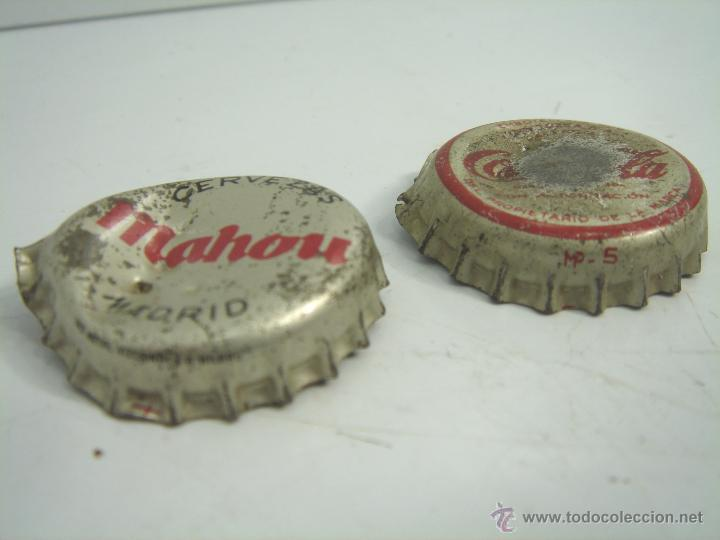metal: (14, 176, 388, 424), (397, 119, 709, 314)
